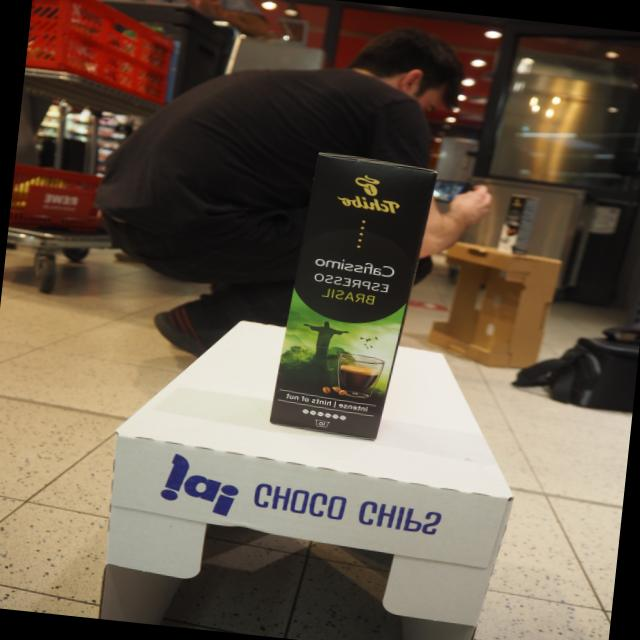Simo Es Brazil: (265, 146, 441, 443)
